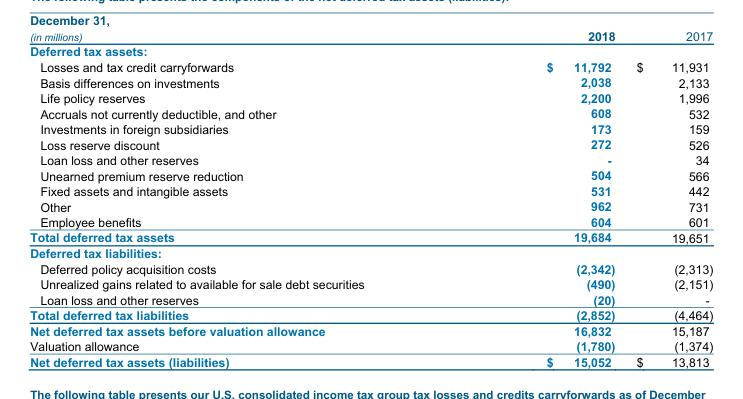table: (29, 28, 712, 368)
table column: (29, 28, 454, 368), (454, 28, 625, 368), (625, 28, 712, 368)
table column header: (29, 28, 712, 43)
table projected row header: (29, 43, 712, 58), (29, 245, 712, 260)
table row: (29, 58, 712, 74), (29, 74, 712, 90), (29, 105, 712, 121), (29, 136, 712, 152), (29, 167, 712, 183), (29, 198, 712, 214), (29, 229, 712, 245), (29, 260, 712, 276), (29, 291, 712, 307), (29, 322, 712, 338), (29, 28, 712, 43), (29, 43, 712, 58), (29, 90, 712, 105), (29, 121, 712, 136), (29, 152, 712, 167), (29, 183, 712, 198), (29, 214, 712, 229), (29, 245, 712, 260), (29, 276, 712, 291), (29, 307, 712, 322), (29, 338, 712, 353), (29, 353, 712, 368)
